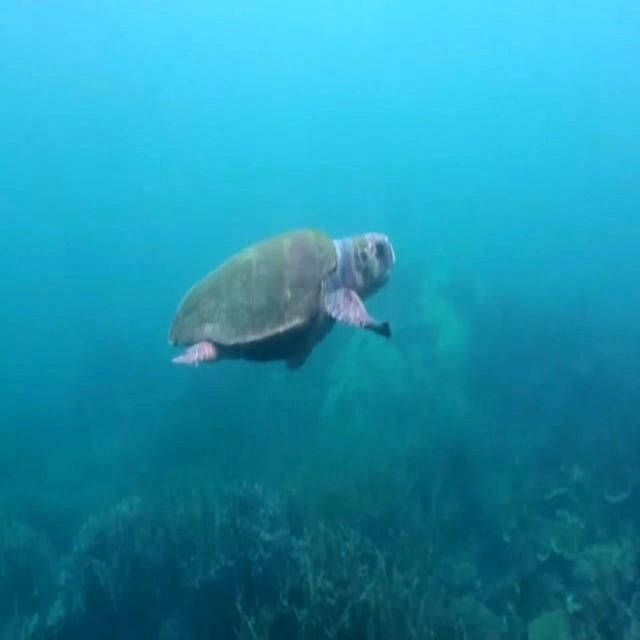Sea turtle: (164, 228, 398, 367)
